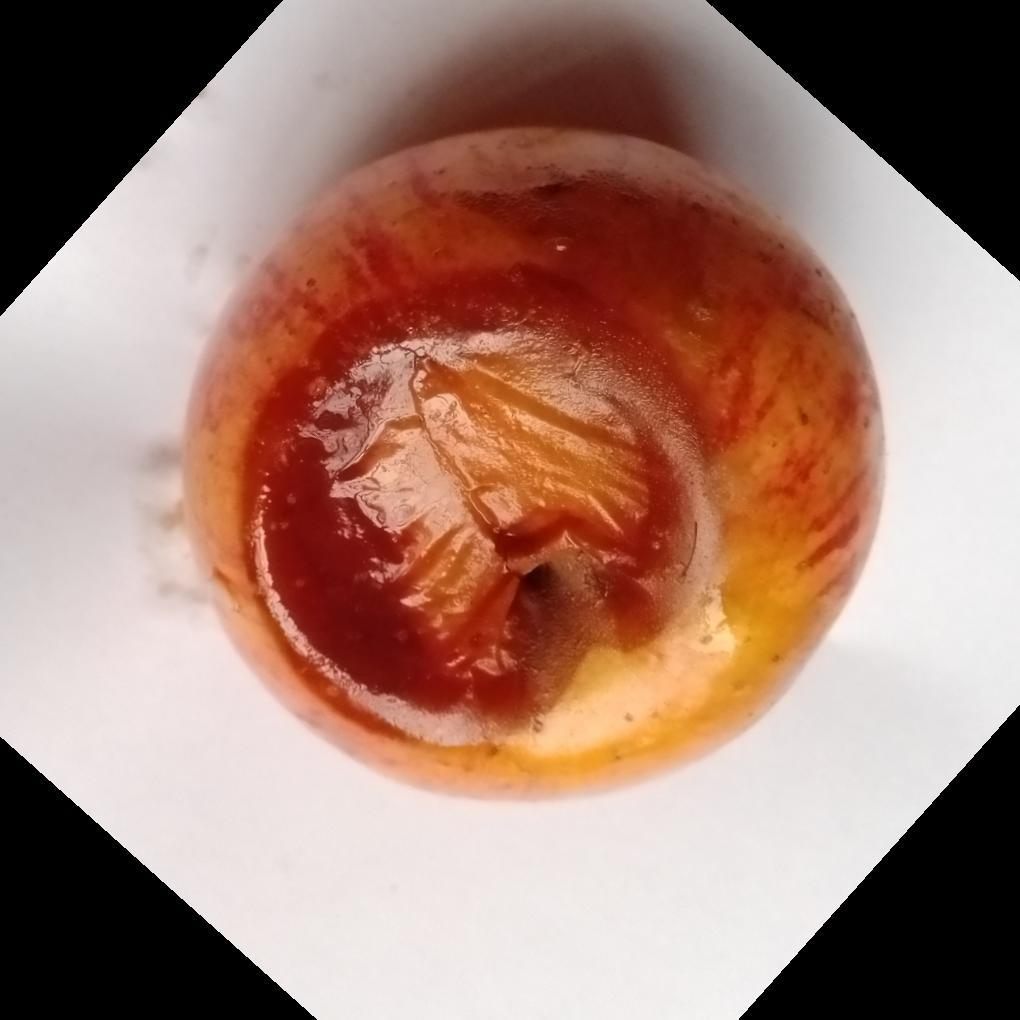FreshOrange: (177, 125, 888, 806)
